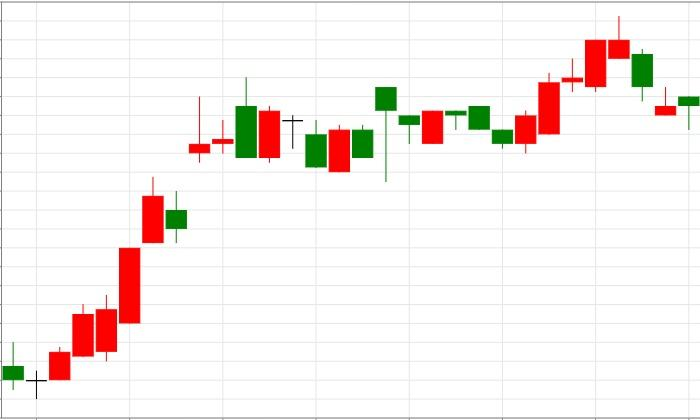hanging_man_fall: (305, 86, 398, 182)
